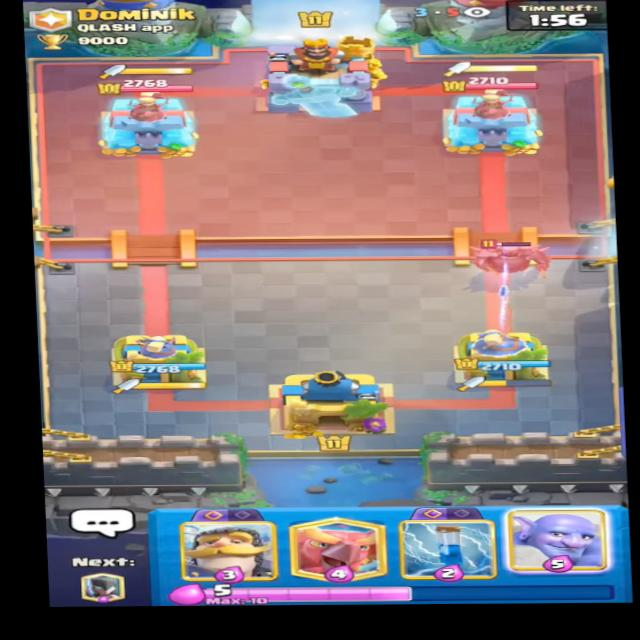pekka: (460, 229, 546, 278)
